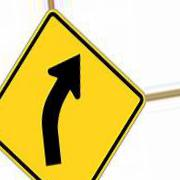right: (1, 9, 145, 180)
